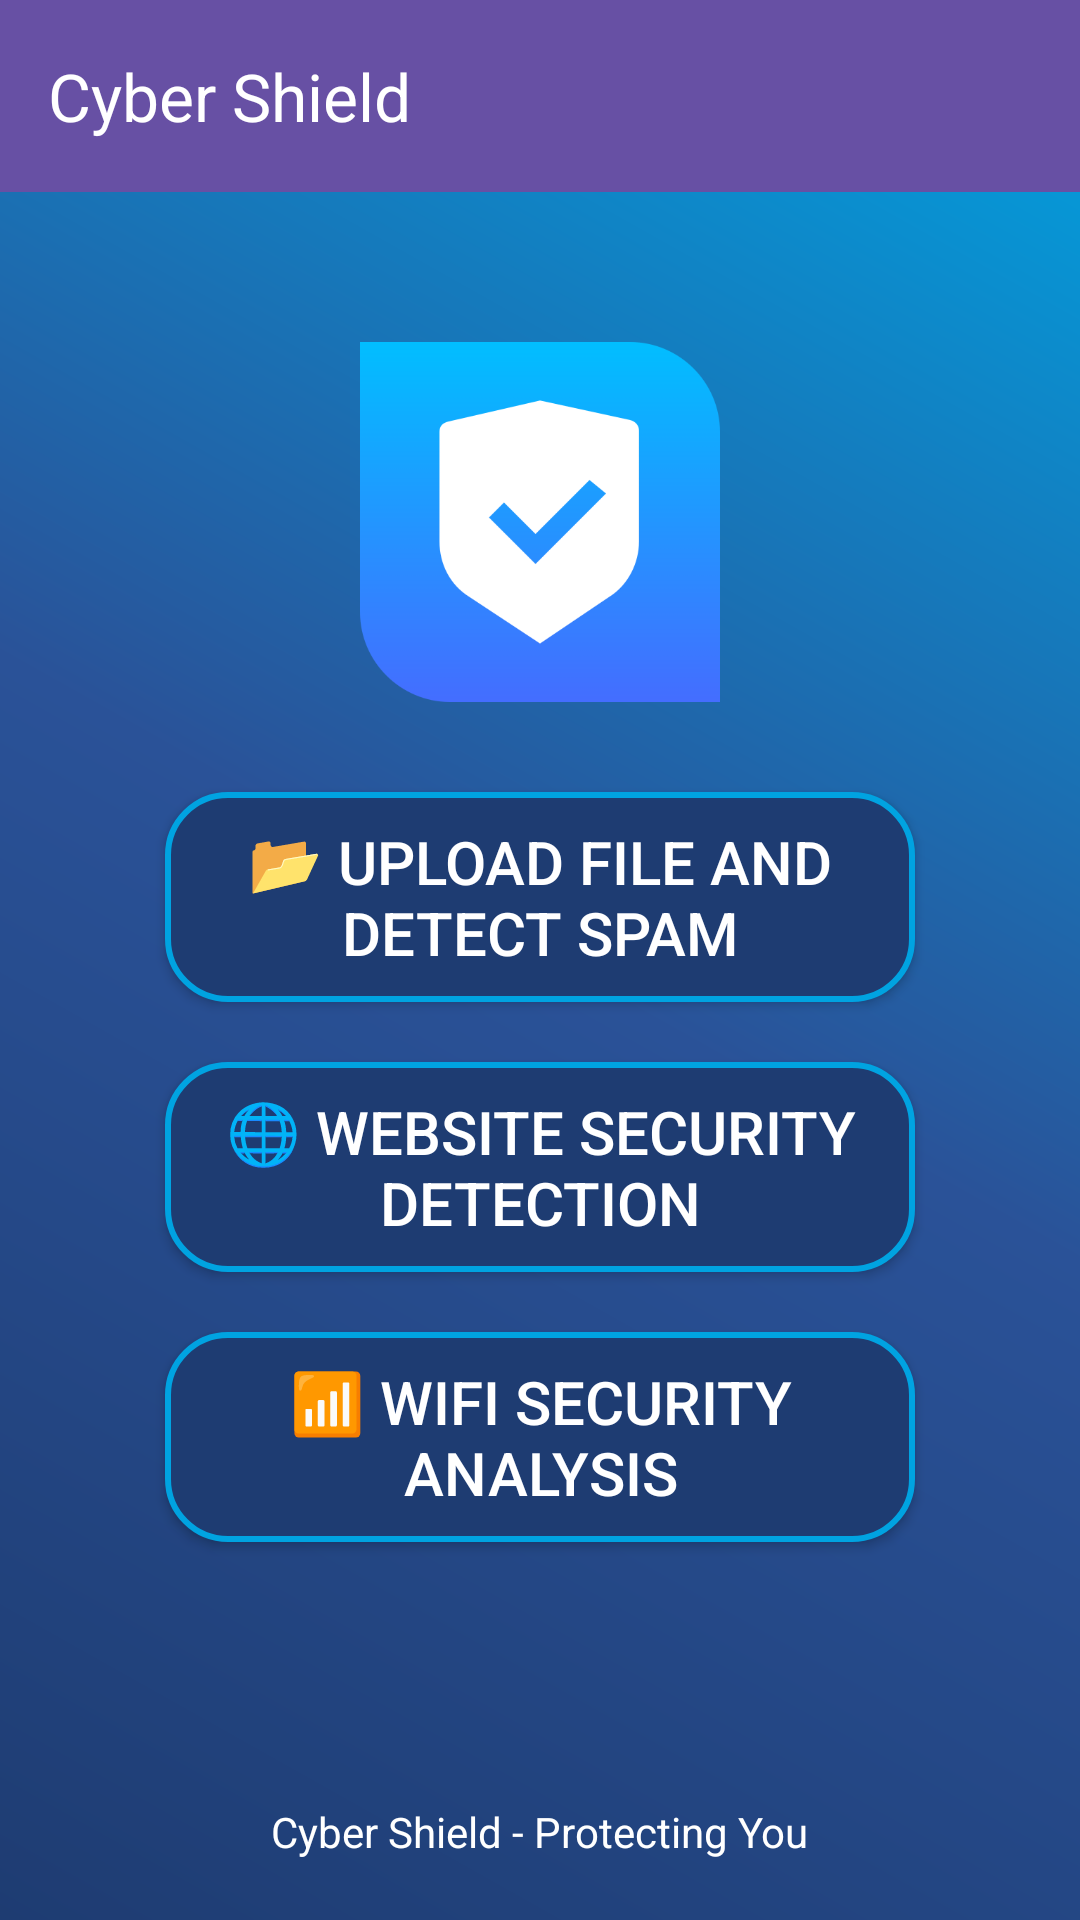

Point at icon controls on the screen. Image size 1080*1920, points as [x,y].
shield: [540,522]
